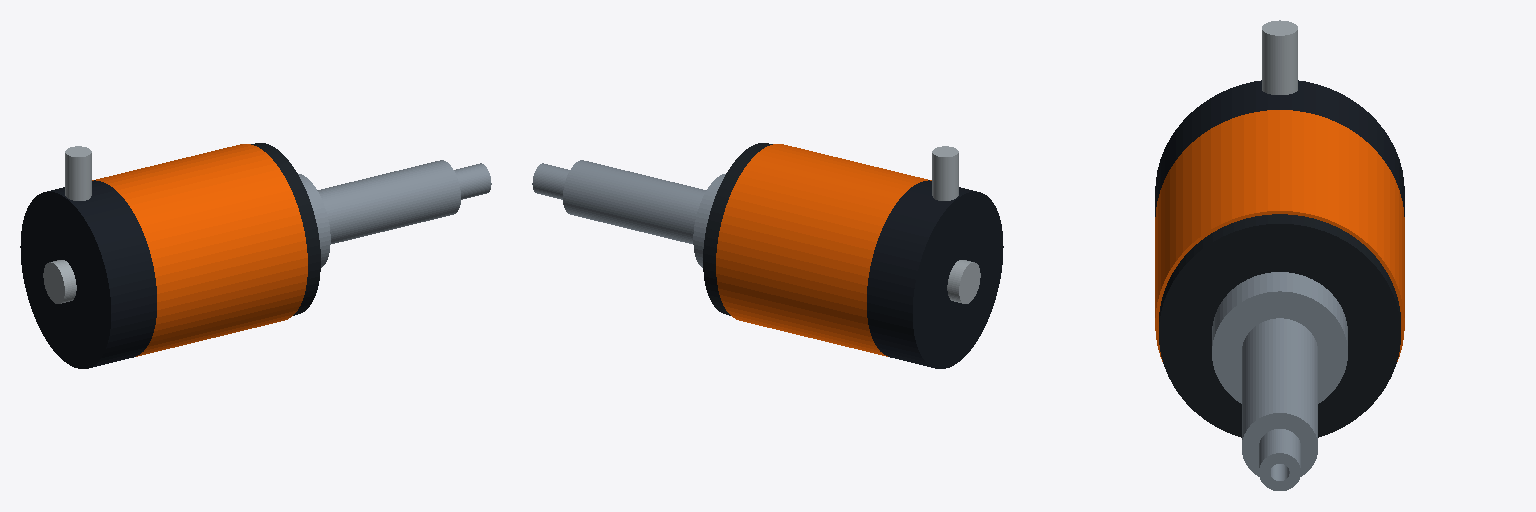
URDF robot description (ati_rcv250):
<robot name="ati_rcv250">
  <!--CC0 procedural reference. See ../README.md; no physical fit or calibrated cutting TCP is asserted.-->
  <link name="mount">
    <visual>
      <geometry>
        <mesh filename="../meshes/spindle_housing.stl" />
      </geometry>
      <material name="spindle_housing">
        <color rgba=".93 .42 .055 1" />
      </material>
    </visual>
    <visual>
      <geometry>
        <mesh filename="../meshes/spindle_rear.stl" />
      </geometry>
      <material name="spindle_rear">
        <color rgba=".13 .15 .18 1" />
      </material>
    </visual>
    <visual>
      <geometry>
        <mesh filename="../meshes/spindle_front.stl" />
      </geometry>
      <material name="spindle_front">
        <color rgba=".14 .16 .18 1" />
      </material>
    </visual>
    <visual>
      <geometry>
        <mesh filename="../meshes/spindle_nose.stl" />
      </geometry>
      <material name="spindle_nose">
        <color rgba=".55 .59 .63 1" />
      </material>
    </visual>
    <visual>
      <geometry>
        <mesh filename="../meshes/spindle_ports.stl" />
      </geometry>
      <material name="spindle_ports">
        <color rgba=".65 .68 .70 1" />
      </material>
    </visual>
    <collision>
      <origin xyz="0.0 0.0 0.0388675" rpy="0 0 0" />
      <geometry>
        <box size="0.06096 0.08255 0.077735" />
      </geometry>
    </collision>
    <collision>
      <origin xyz="-0.042545 0.0 0.03646" rpy="0 1.5707963267948966 0" />
      <geometry>
        <cylinder radius="0.041275" length="0.02413" />
      </geometry>
    </collision>
    <collision>
      <origin xyz="0.0432465 0.0 0.03646" rpy="0 1.5707963267948966 0" />
      <geometry>
        <cylinder radius="0.041275" length="0.025532999999999993" />
      </geometry>
    </collision>
    <collision>
      <origin xyz="0.063633 0.0 0.03646" rpy="0 1.5707963267948966 0" />
      <geometry>
        <cylinder radius="0.0225" length="0.015240000000000009" />
      </geometry>
    </collision>
    <collision>
      <origin xyz="0.1082735 0.0 0.03646" rpy="0 1.5707963267948966 0" />
      <geometry>
        <cylinder radius="0.0127" length="0.074041" />
      </geometry>
    </collision>
    <collision>
      <origin xyz="0.15490800000000002 0.0 0.03646" rpy="0 1.5707963267948966 0" />
      <geometry>
        <cylinder radius="0.007" length="0.01922800000000001" />
      </geometry>
    </collision>
    <collision>
      <origin xyz="-0.0576995 0.0 0.03646" rpy="0 1.5707963267948966 0" />
      <geometry>
        <cylinder radius="0.00975" length="0.006179000000000002" />
      </geometry>
    </collision>
    <collision>
      <origin xyz="-0.04802105 0.0 0.08508825" rpy="0 0 0" />
      <geometry>
        <cylinder radius="0.0059943999999999996" length="0.0285751" />
      </geometry>
    </collision>
  </link>
  <link name="tcp" />
  <joint name="tcp_joint" type="fixed">
    <parent link="mount" />
    <child link="tcp" />
    <origin xyz="0 0 0.0" rpy="0 0 0" />
  </joint>
</robot>

--- Render facts (derived) ---
Views: 3 orthographic renders of the robot side by side, from view 1: azimuth 30°, elevation 25°; view 2: azimuth 150°, elevation 25°; view 3: azimuth 270°, elevation 25°.
Model ati_rcv250 with 2 links and 1 joints (1 fixed), rooted at mount, posed all joints at 0.
Visible links, largest first — view 1: mount; view 2: mount; view 3: mount.
Boxes of the visible links, left/top/right/bottom form: mount: left=20, top=143, right=491, bottom=368; mount: left=532, top=143, right=1003, bottom=368; mount: left=1155, top=20, right=1404, bottom=490.
Size in the robot's own frame: 0.2253 by 0.0826 by 0.1042 metres.
Meshes: 5 distinct files referenced, 5 mesh visuals loaded (5 binary STL).
